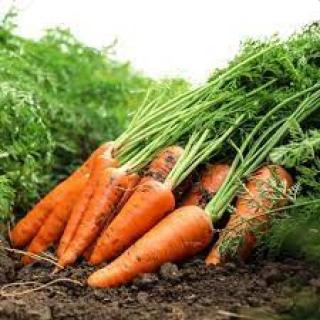carrot: (86, 204, 214, 286), (208, 164, 292, 268), (88, 179, 176, 263)
